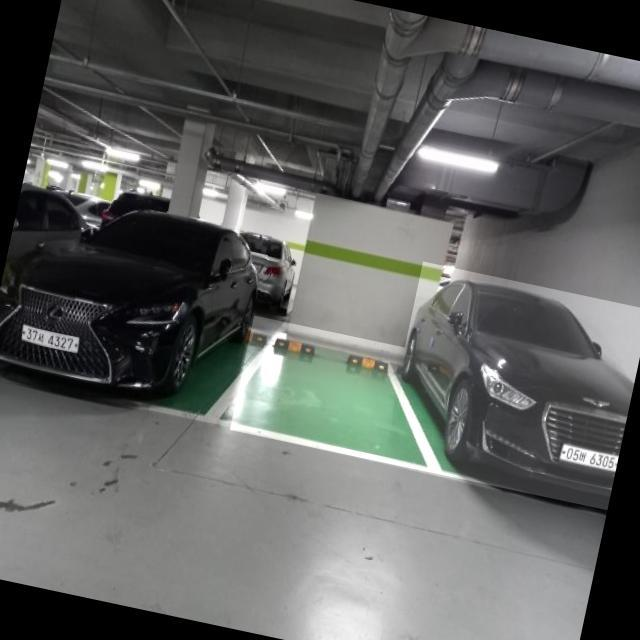empty: (229, 315, 407, 462)
occupied: (0, 181, 272, 429), (379, 261, 640, 510)
